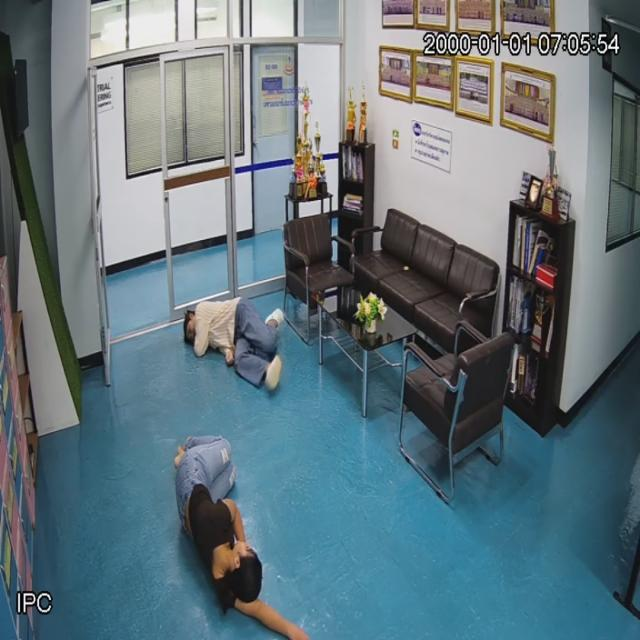fall: (169, 422, 287, 630), (183, 286, 289, 388)
